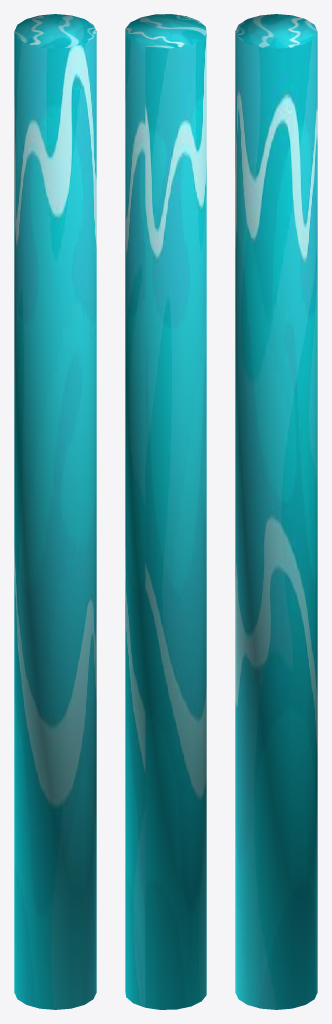
Rendered from waterFlow.glb.
3 views of the same model, side by side, from view 1: azimuth 90°, elevation 25°; view 2: azimuth 150°, elevation 25°; view 3: azimuth 270°, elevation 25° (orthographic).
Visible parts, largest first — view 1: Water_Running_out; view 2: Water_Running_out; view 3: Water_Running_out.
Boxes of the visible parts, x1,y1,x2,y2 form: Water_Running_out: [14, 14, 96, 1009]; Water_Running_out: [125, 14, 206, 1009]; Water_Running_out: [235, 14, 317, 1009].
Bounding box in the file's own units: 0.02 × 0.2576 × 0.02.
1 material, 1 textured.
